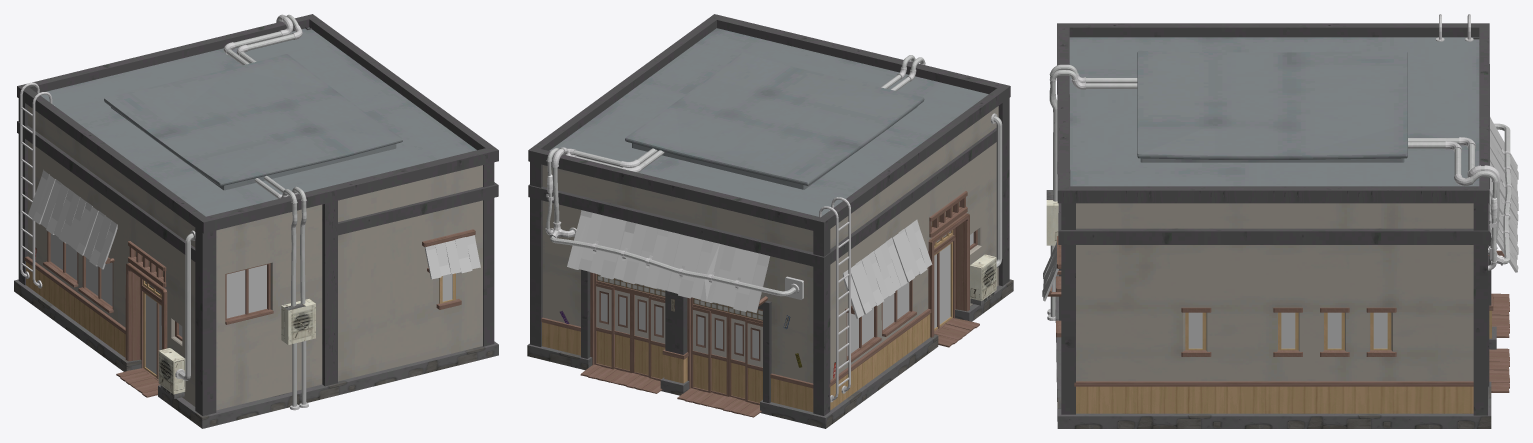
The model's file is SM_ENV_KNVLLG_AreaG_Building_G.fbx.
The picture shows the model from 3 angles, left to right: view 1: azimuth 30°, elevation 25°; view 2: azimuth 150°, elevation 25°; view 3: azimuth 270°, elevation 25°; orthographic projection. The views are drawn at different scales.
Visible parts, largest first — view 1: SM_ENV_KNVLLG_AreaG_Building_G.mo; view 2: SM_ENV_KNVLLG_AreaG_Building_G.mo; view 3: SM_ENV_KNVLLG_AreaG_Building_G.mo.
Boxes of the visible parts, x1=… form: SM_ENV_KNVLLG_AreaG_Building_G.mo: x1=14, y1=14, x2=498, y2=428; SM_ENV_KNVLLG_AreaG_Building_G.mo: x1=527, y1=14, x2=1013, y2=428; SM_ENV_KNVLLG_AreaG_Building_G.mo: x1=1042, y1=14, x2=1518, y2=428.
Size of the model in its own units: 2414 by 1604 by 2775.
